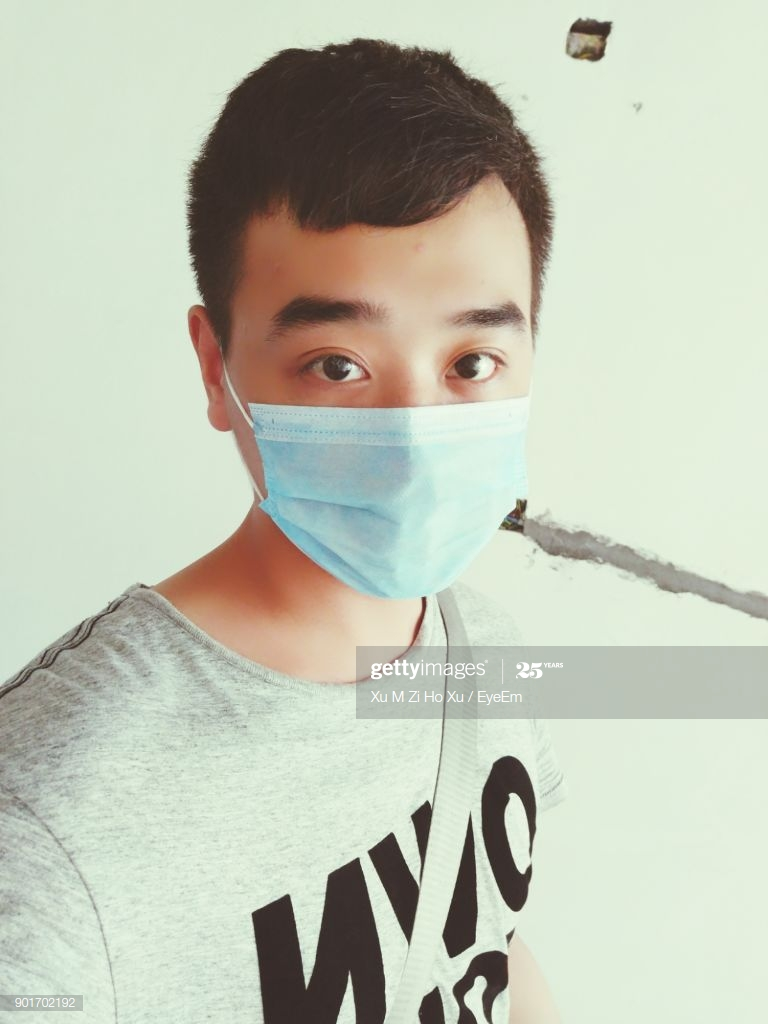surgical: (235, 383, 551, 603)
